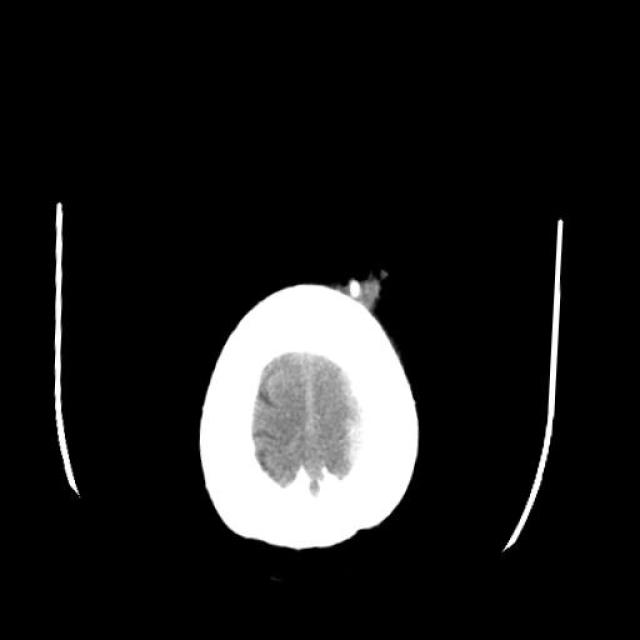Subdural: (304, 338, 384, 491)
